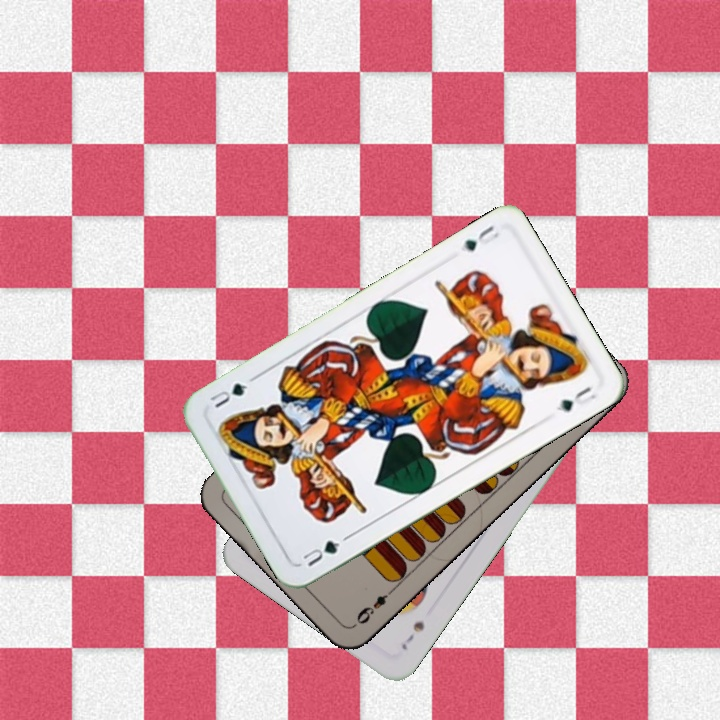E9: (350, 584, 398, 629)
GU: (456, 221, 502, 255), (298, 536, 343, 570)
S7: (397, 617, 427, 653)
